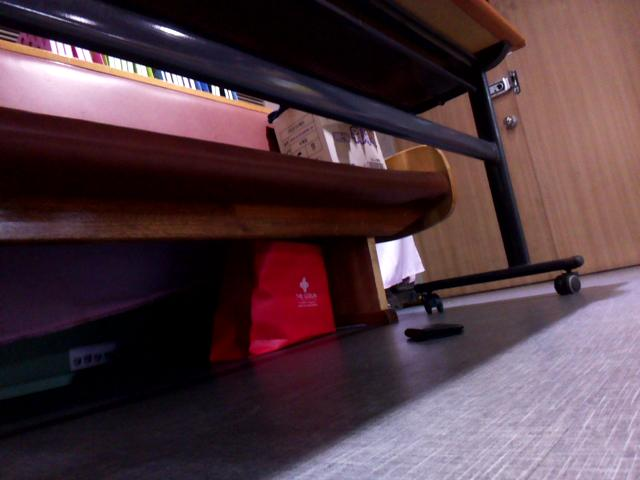wallet: (401, 317, 467, 347)
